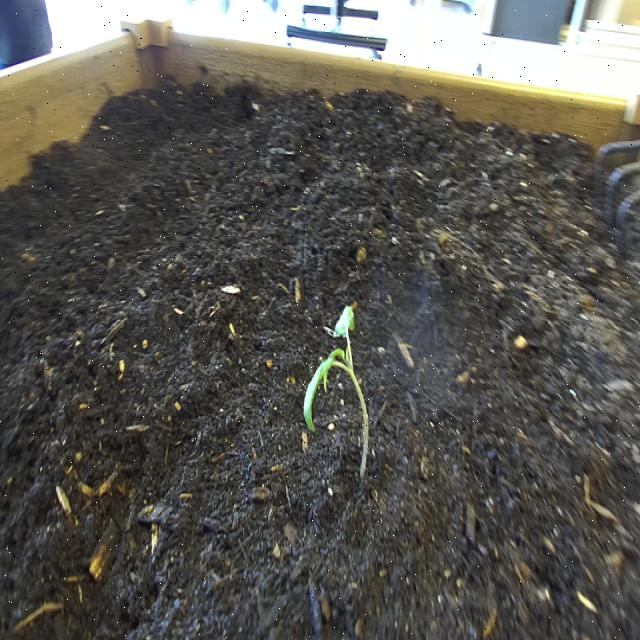Healthy: (298, 299, 374, 487)
